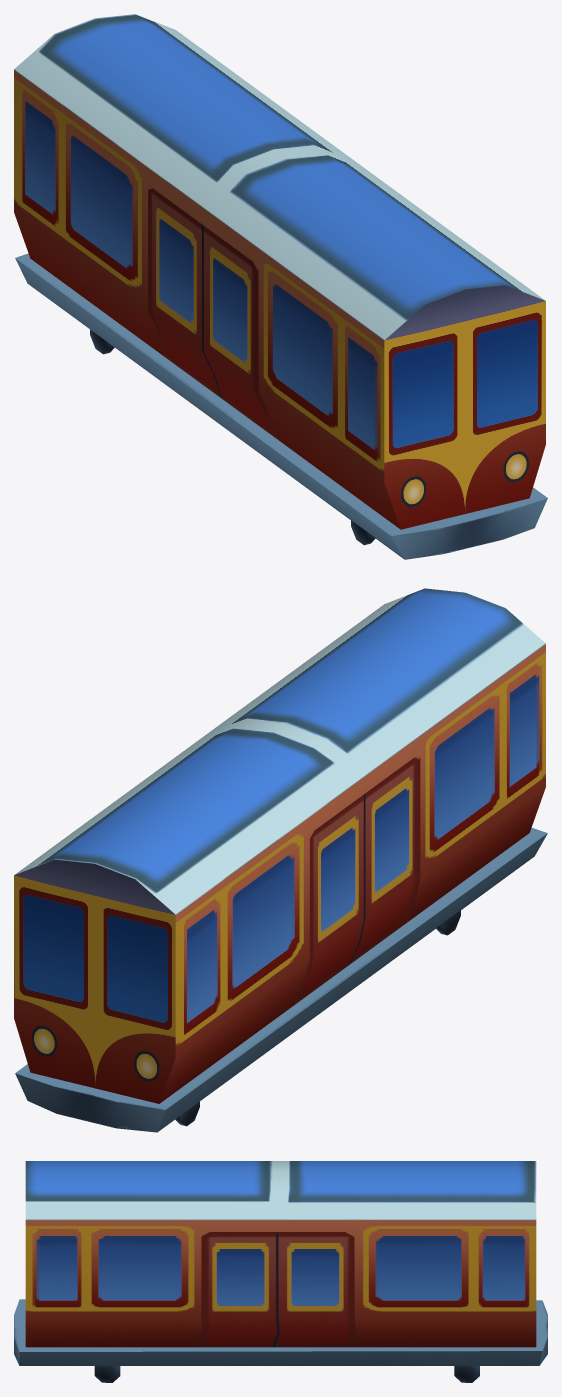
The model's file is Train01.fbx.
3 views of the same model, one above another, from view 1: azimuth 30°, elevation 25°; view 2: azimuth 150°, elevation 25°; view 3: azimuth 270°, elevation 25° (orthographic). The views are drawn at different scales.
Visible parts, largest first — view 1: Train_01; view 2: Train_01; view 3: Train_01.
Boxes of the visible parts, left/top/right/bottom form: Train_01: left=14, top=14, right=547, bottom=559; Train_01: left=14, top=588, right=547, bottom=1132; Train_01: left=14, top=1161, right=547, bottom=1382.
Bounding box in the file's own units: 463 × 781 × 1920.
1 material, 1 textured.
